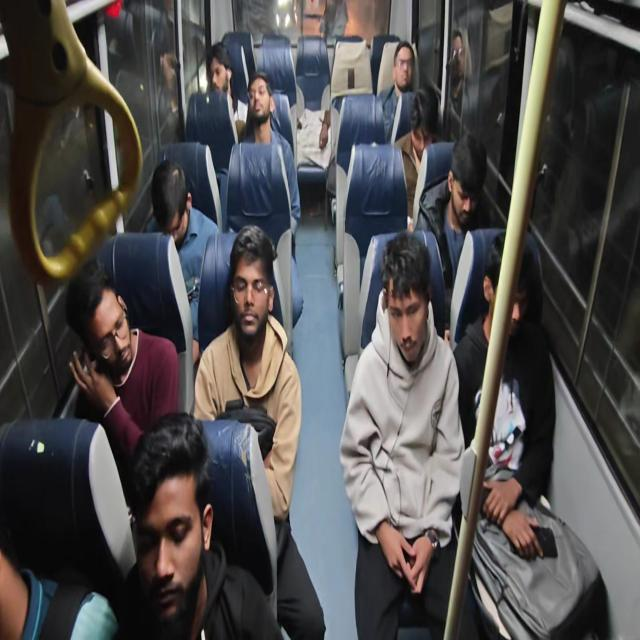person: (193, 224, 326, 638), (339, 230, 465, 638), (451, 230, 557, 638), (123, 411, 284, 638), (65, 256, 180, 466), (150, 158, 220, 362), (413, 132, 491, 288), (0, 550, 119, 638), (240, 71, 301, 235), (394, 84, 442, 224), (206, 42, 247, 143), (377, 40, 415, 142), (295, 81, 331, 169), (444, 27, 472, 138), (157, 50, 184, 144)
